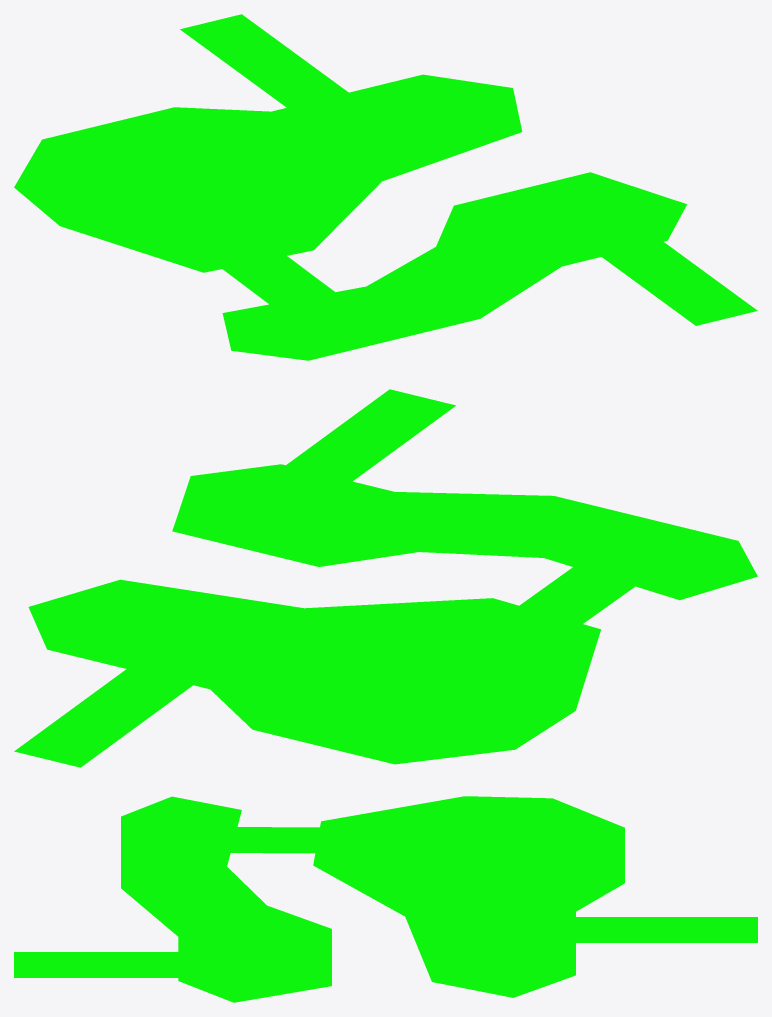
File: s05b_ib2-floor.glb
3 views of the same model, one above another, from view 1: azimuth 30°, elevation 25°; view 2: azimuth 150°, elevation 25°; view 3: azimuth 270°, elevation 25° (orthographic). The views are drawn at different scales.
Visible parts, largest first — view 1: collision_floor-colonly; view 2: collision_floor-colonly; view 3: collision_floor-colonly.
Part boxes in pixels (bbox=[...]): collision_floor-colonly: bbox=[14, 14, 757, 360]; collision_floor-colonly: bbox=[14, 389, 757, 767]; collision_floor-colonly: bbox=[14, 796, 757, 1002].
Bounding box in the file's own units: 47.65 × 0.1016 × 72.5.
